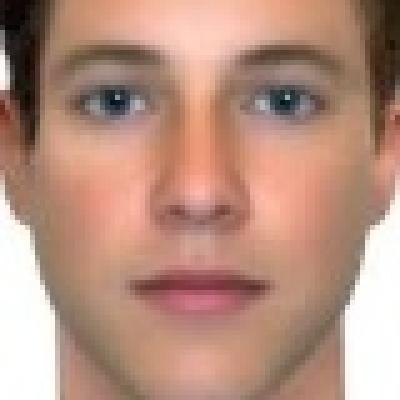netural: (42, 4, 366, 387)
